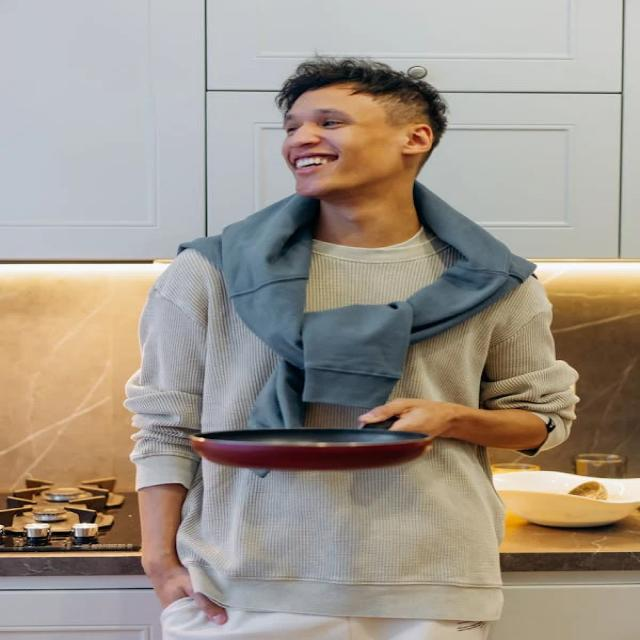Real human 2: (86, 47, 594, 640)
